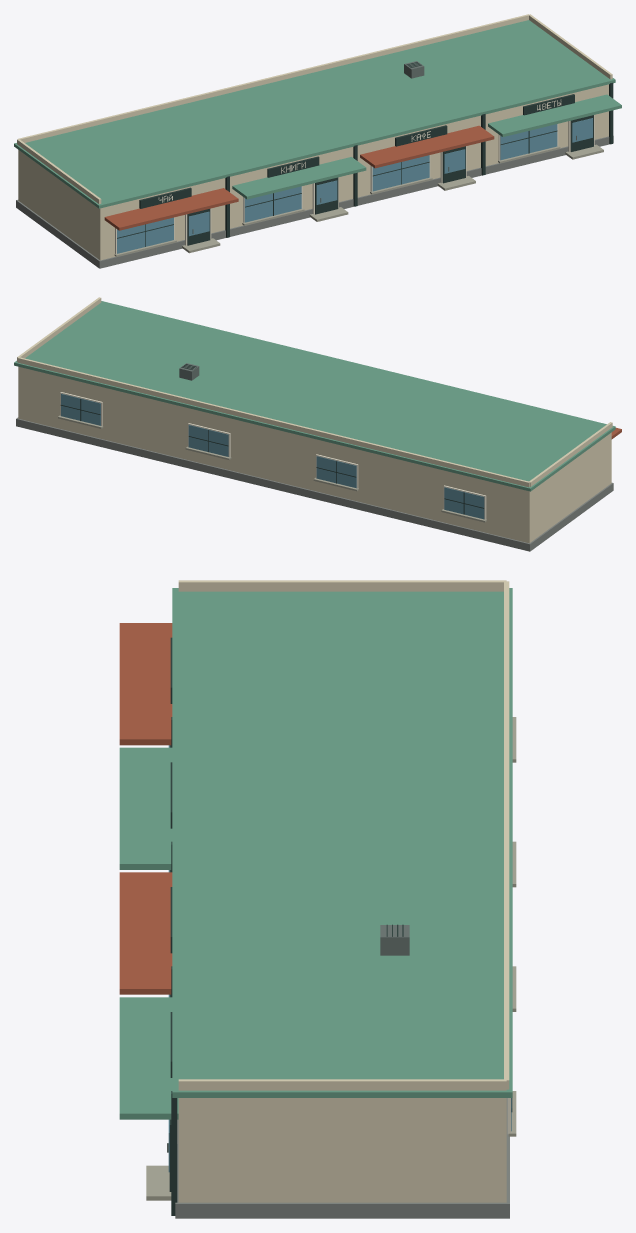
File: NeighbourhoodShops.obj
The picture shows the model from 3 angles, top to bottom: view 1: azimuth 30°, elevation 25°; view 2: azimuth 150°, elevation 25°; view 3: azimuth 270°, elevation 25°; orthographic projection. The views are drawn at different scales.
Parts seen in each view (by area): view 1: NeighbourhoodShops; view 2: NeighbourhoodShops; view 3: NeighbourhoodShops.
Part boxes in pixels (x1=…): NeighbourhoodShops: x1=14, y1=14, x2=621, y2=268; NeighbourhoodShops: x1=14, y1=297, x2=621, y2=551; NeighbourhoodShops: x1=119, y1=580, x2=516, y2=1218.
Bounding box in the file's own units: 36.38 × 4.97 × 12.1.
Materials: 1 (1 with a texture image).
